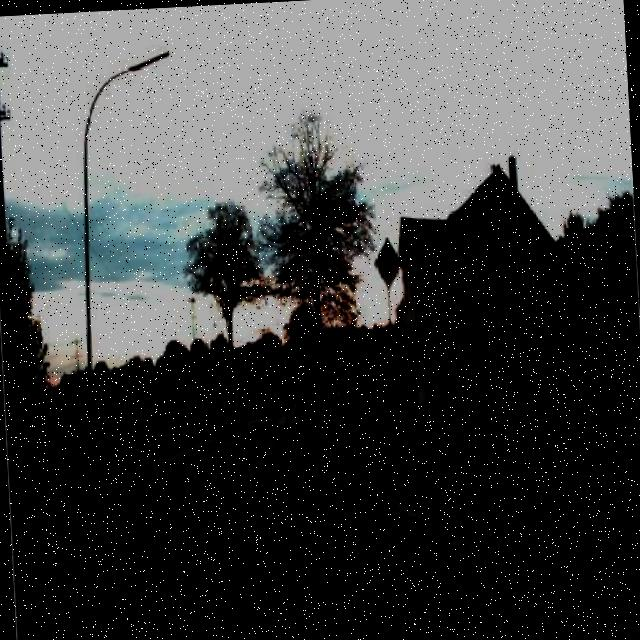Ograniczenie predkosci do 50: (342, 353, 355, 372)
